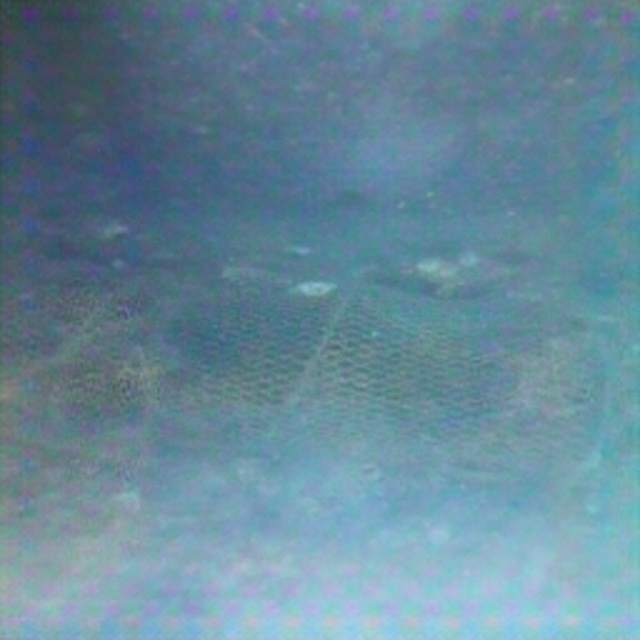mine: (0, 263, 612, 483)
